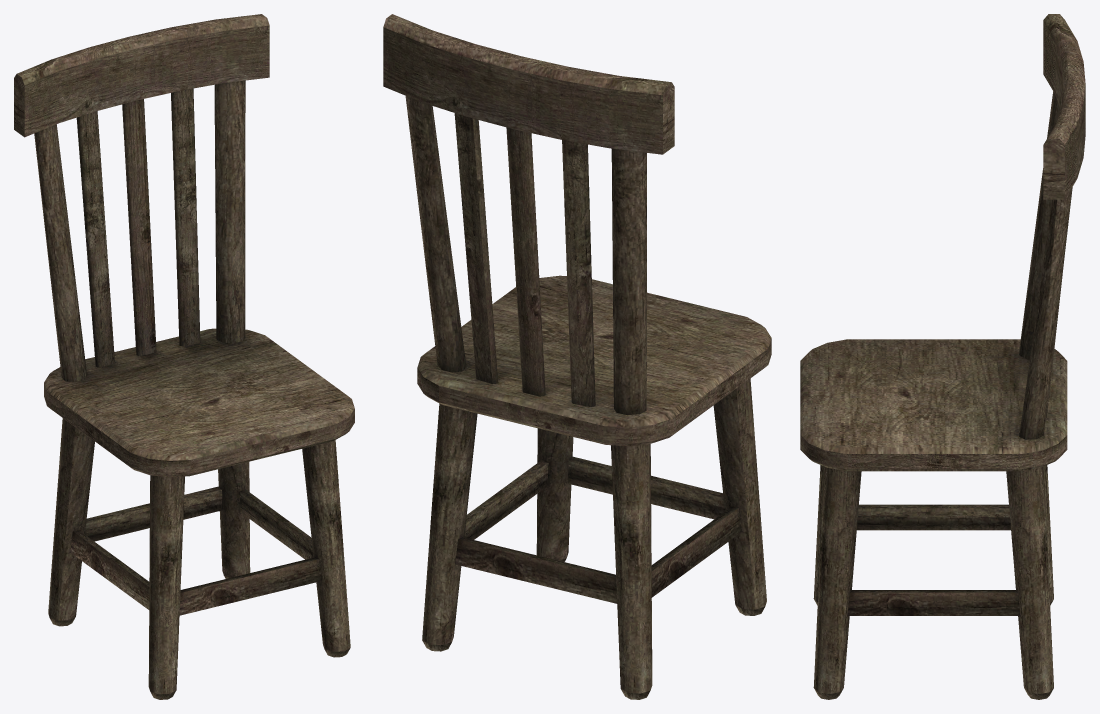
The model's file is kitchenchair1.obj.
3 renders of one model, left to right at view 1: azimuth 30°, elevation 25°; view 2: azimuth 150°, elevation 25°; view 3: azimuth 270°, elevation 25°, orthographic. The views are drawn at different scales.
Visible parts, largest first — view 1: Model001_4_Material168_1.0_0.0_0.0; view 2: Model001_4_Material168_1.0_0.0_0.0; view 3: Model001_4_Material168_1.0_0.0_0.0.
Part boxes in pixels (x1,y1,x2,y2): Model001_4_Material168_1.0_0.0_0.0: [14, 14, 354, 699]; Model001_4_Material168_1.0_0.0_0.0: [383, 14, 771, 699]; Model001_4_Material168_1.0_0.0_0.0: [800, 14, 1085, 699].
Bounding box in the file's own units: 0.4524 × 0.9689 × 0.4357.
